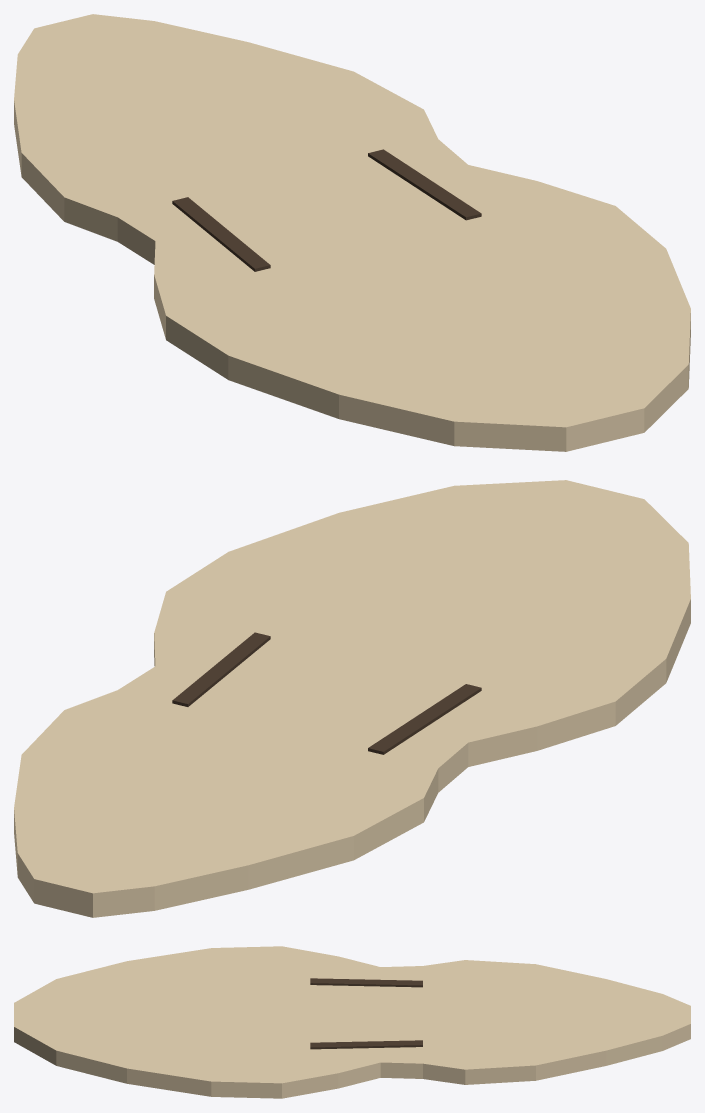
File: prop-viol-top-blank.fbx
The picture shows the model from 3 angles, top to bottom: view 1: azimuth 30°, elevation 25°; view 2: azimuth 150°, elevation 25°; view 3: azimuth 270°, elevation 25°; orthographic projection. The views are drawn at different scales.
Parts seen in each view (by area): view 1: prop-viol-top-blank; view 2: prop-viol-top-blank; view 3: prop-viol-top-blank.
Part boxes in pixels (left/top/right/bottom): prop-viol-top-blank: left=14, top=14, right=690, bottom=451; prop-viol-top-blank: left=14, top=480, right=690, bottom=917; prop-viol-top-blank: left=14, top=946, right=690, bottom=1098.
Size of the model in its own units: 23 by 1.35 by 48.
